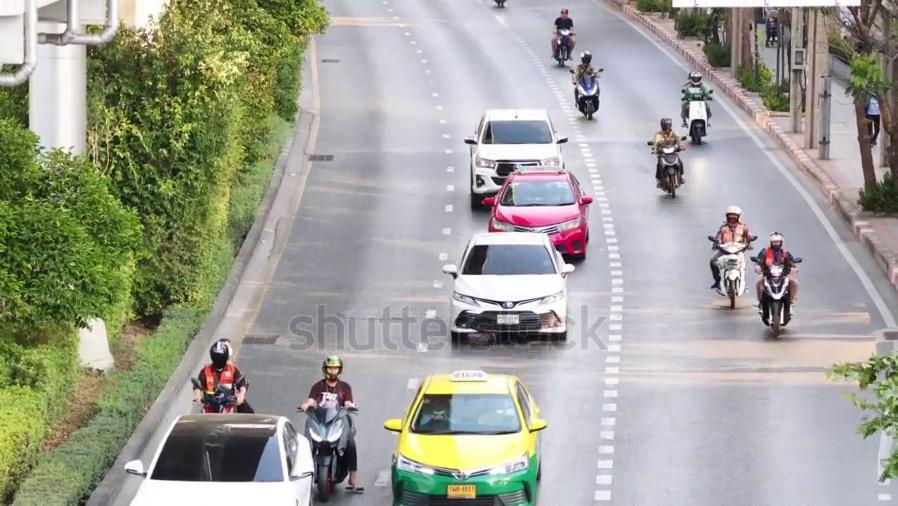person: (864, 92, 881, 146)
rider: (298, 354, 364, 492), (190, 338, 254, 413), (751, 230, 797, 318), (708, 205, 754, 290), (647, 117, 686, 188), (680, 70, 713, 127), (570, 50, 599, 108), (551, 7, 576, 60)
with_helmate: (319, 356, 346, 380), (209, 340, 226, 369), (721, 206, 741, 226), (767, 230, 786, 251), (687, 69, 704, 87), (576, 51, 594, 68), (659, 118, 674, 134)
